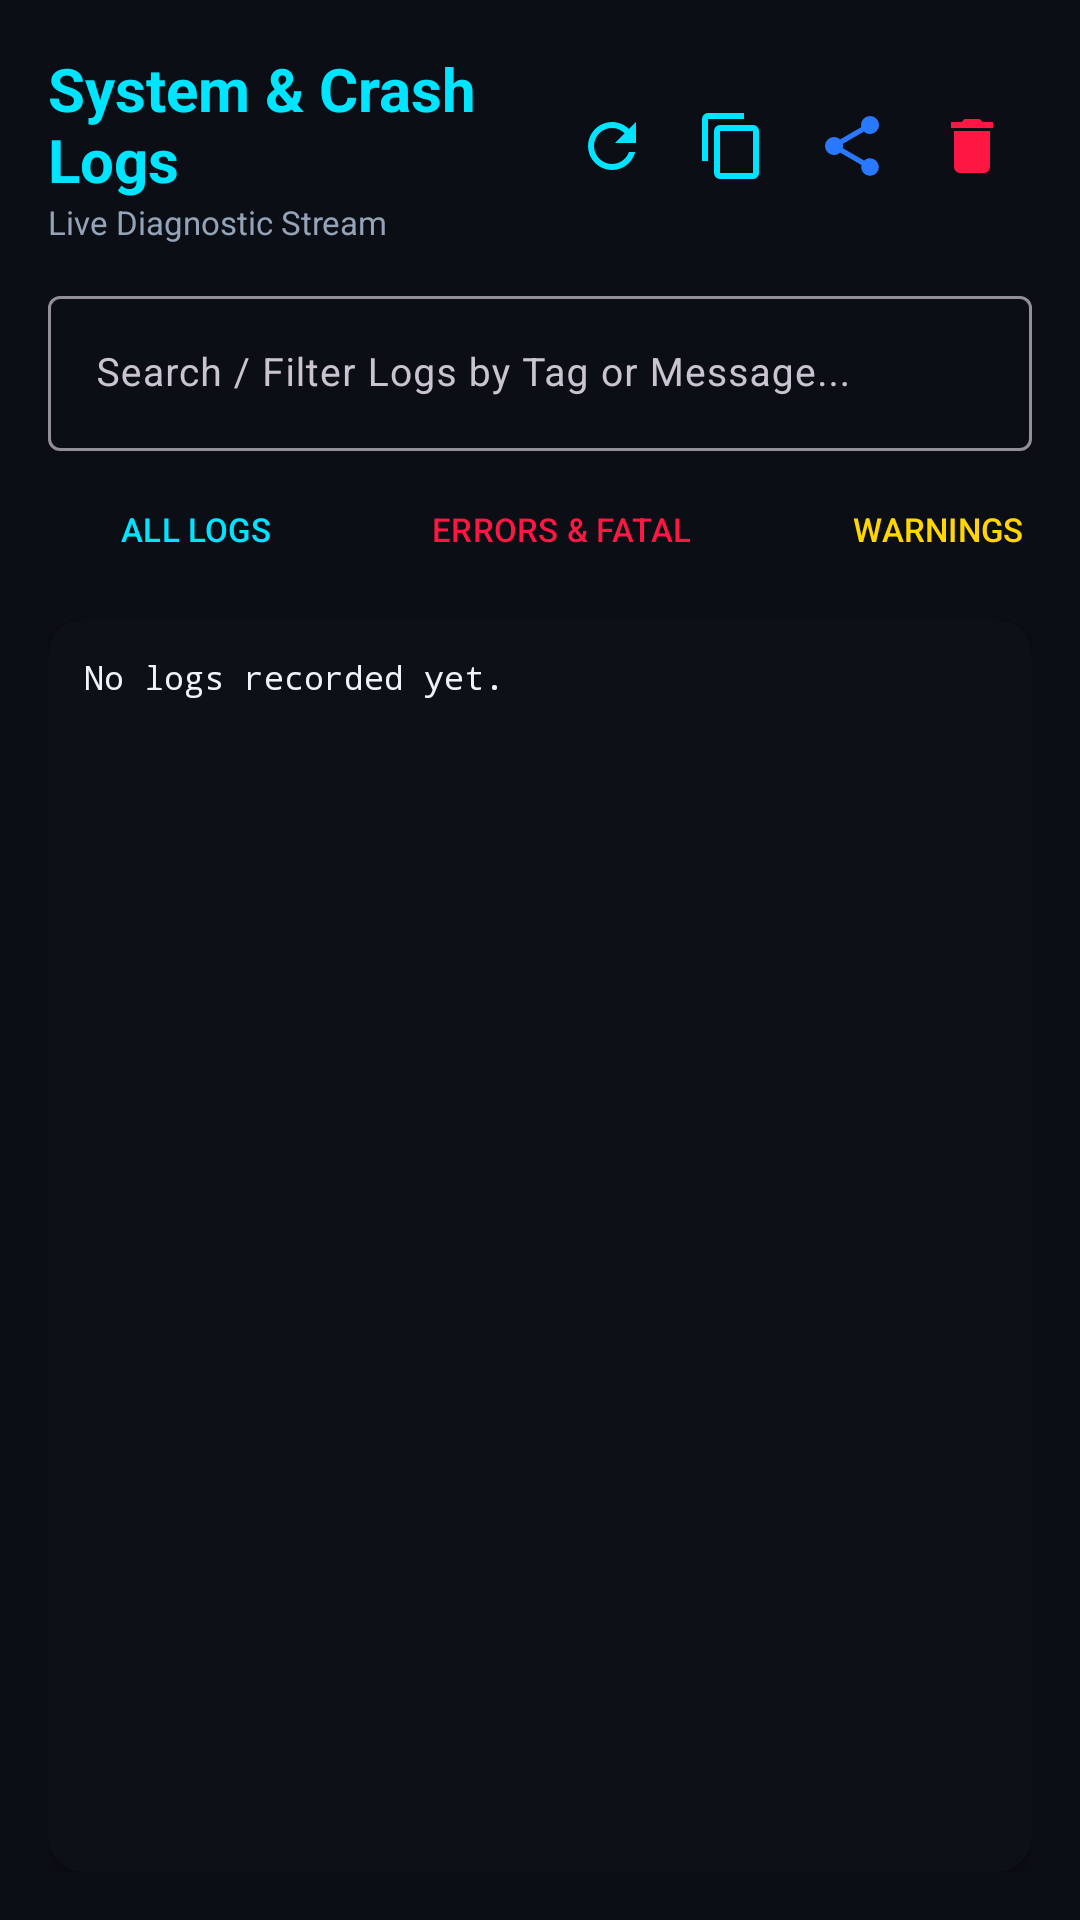

Named icons in this screenshot (1080x1920) and their bounding boxes, box=[x1, y1, x2, y2]:
Clear: box=[951, 119, 993, 173]
Copy: box=[702, 113, 759, 179]
Refresh: box=[588, 122, 636, 170]
Share: box=[825, 116, 879, 176]
